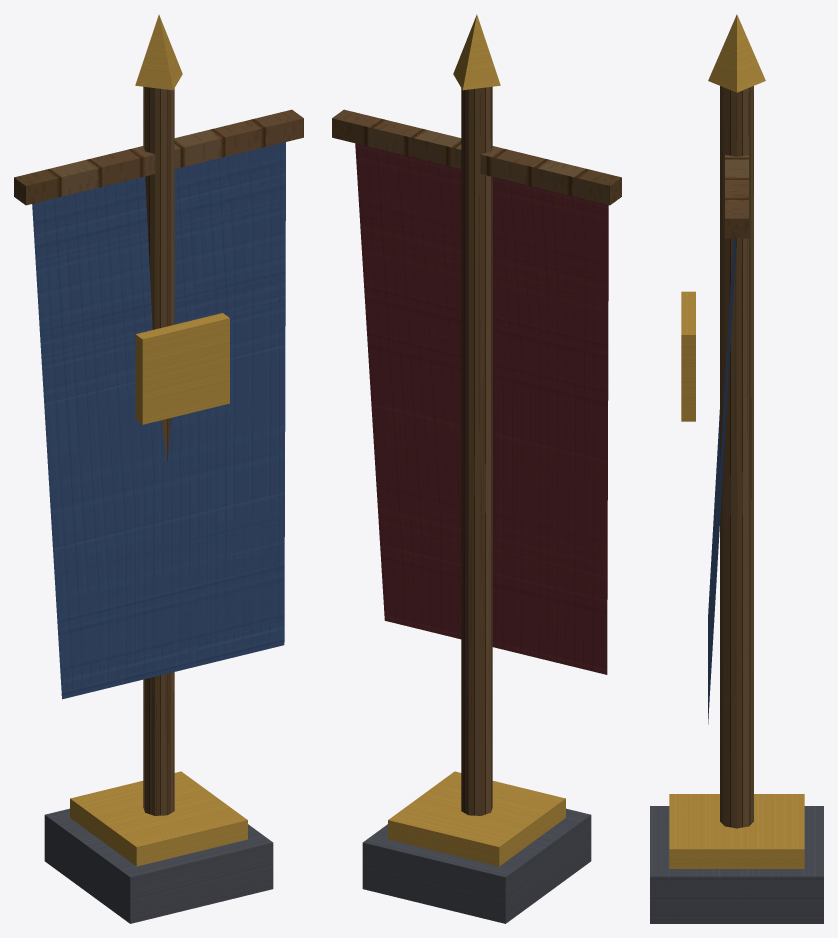
File: ae_raid_trophy_banner_lod0.glb
The picture shows the model from 3 angles, left to right: view 1: azimuth 30°, elevation 25°; view 2: azimuth 150°, elevation 25°; view 3: azimuth 270°, elevation 25°; orthographic projection.
Parts seen in each view (by area): view 1: ae_raid_trophy_banner_lod0; view 2: ae_raid_trophy_banner_lod0; view 3: ae_raid_trophy_banner_lod0.
Boxes of the visible parts, x1,y1,x2,y2 form: ae_raid_trophy_banner_lod0: (14, 14, 303, 923); ae_raid_trophy_banner_lod0: (332, 14, 621, 923); ae_raid_trophy_banner_lod0: (650, 14, 823, 923).
Bounding box in the file's own units: 0.7499 × 2.22 × 0.4.
1 material, 1 textured.
